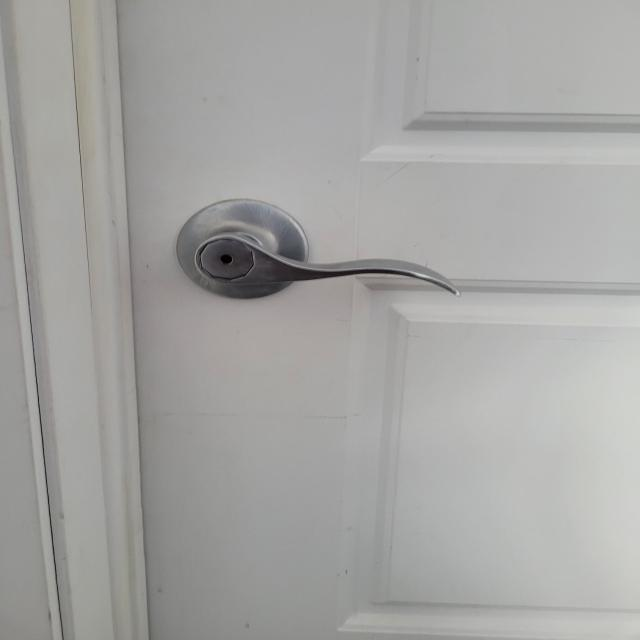door-handle: (177, 199, 460, 299)
